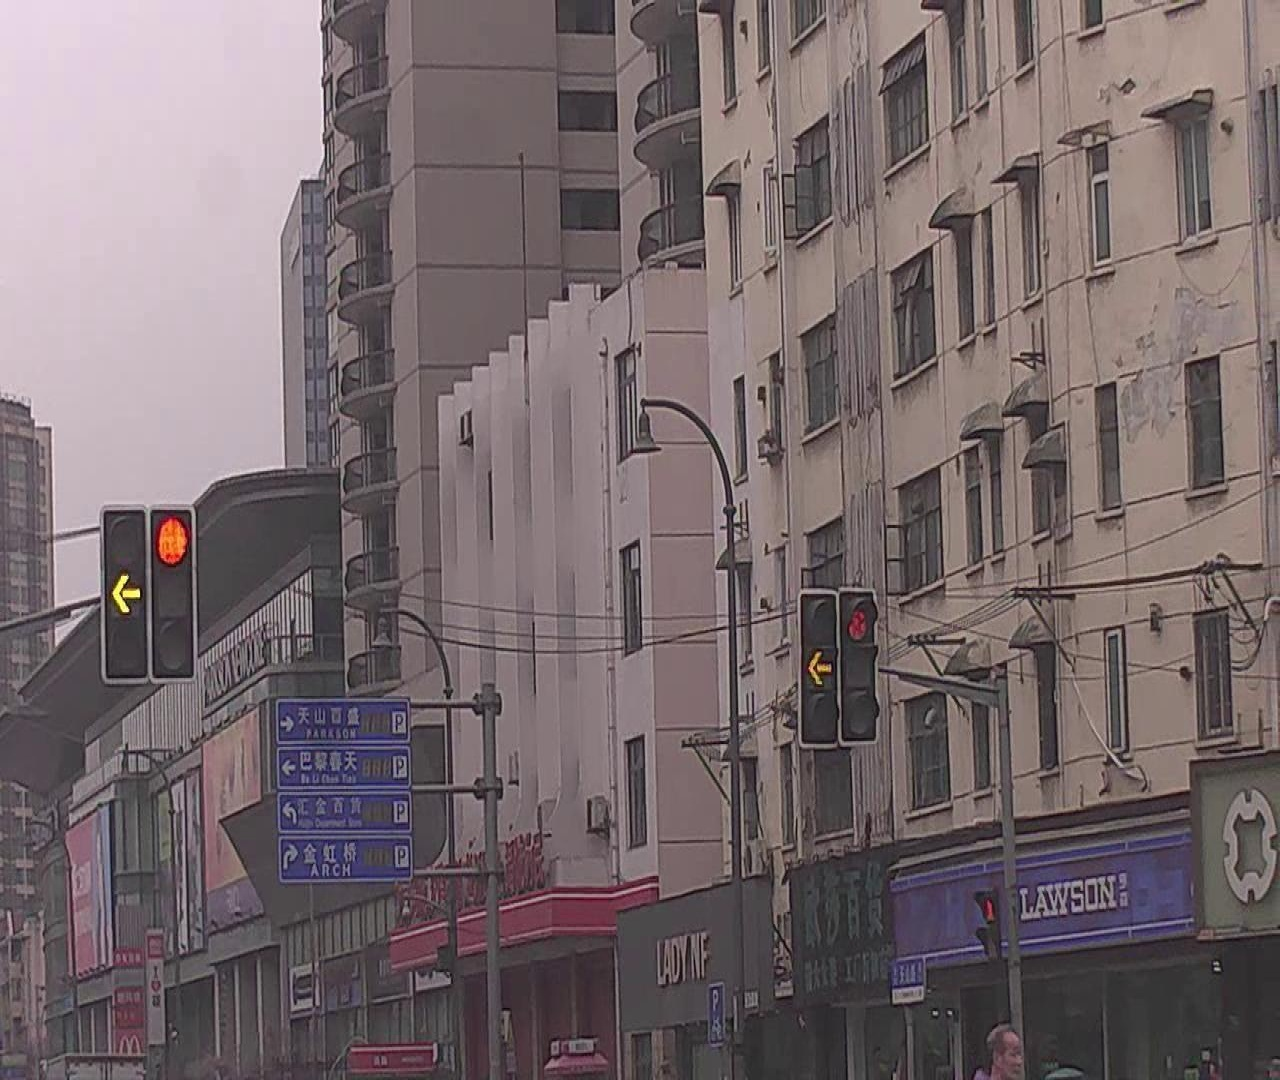red: (146, 505, 196, 672), (833, 583, 878, 733)
yellow: (102, 508, 150, 678), (801, 592, 837, 747)
